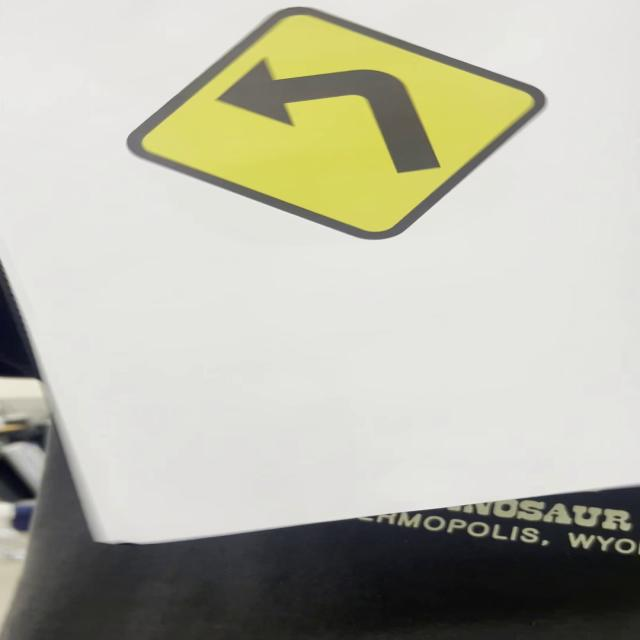left: (128, 6, 550, 241)
